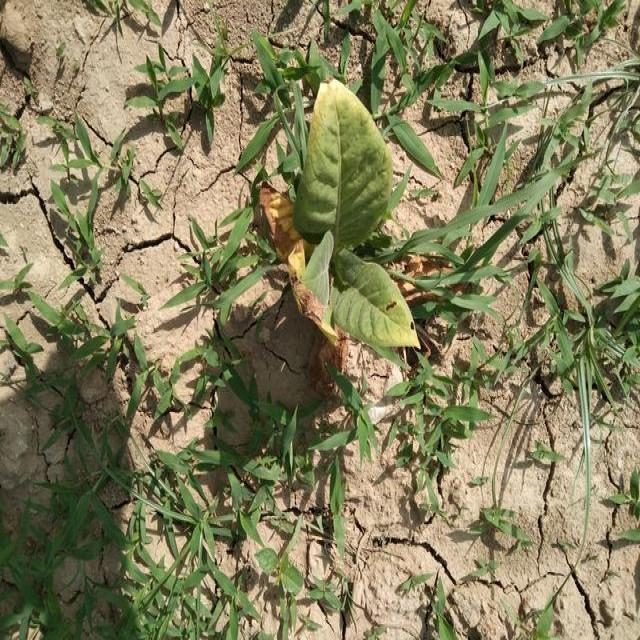crop: (292, 64, 432, 367)
